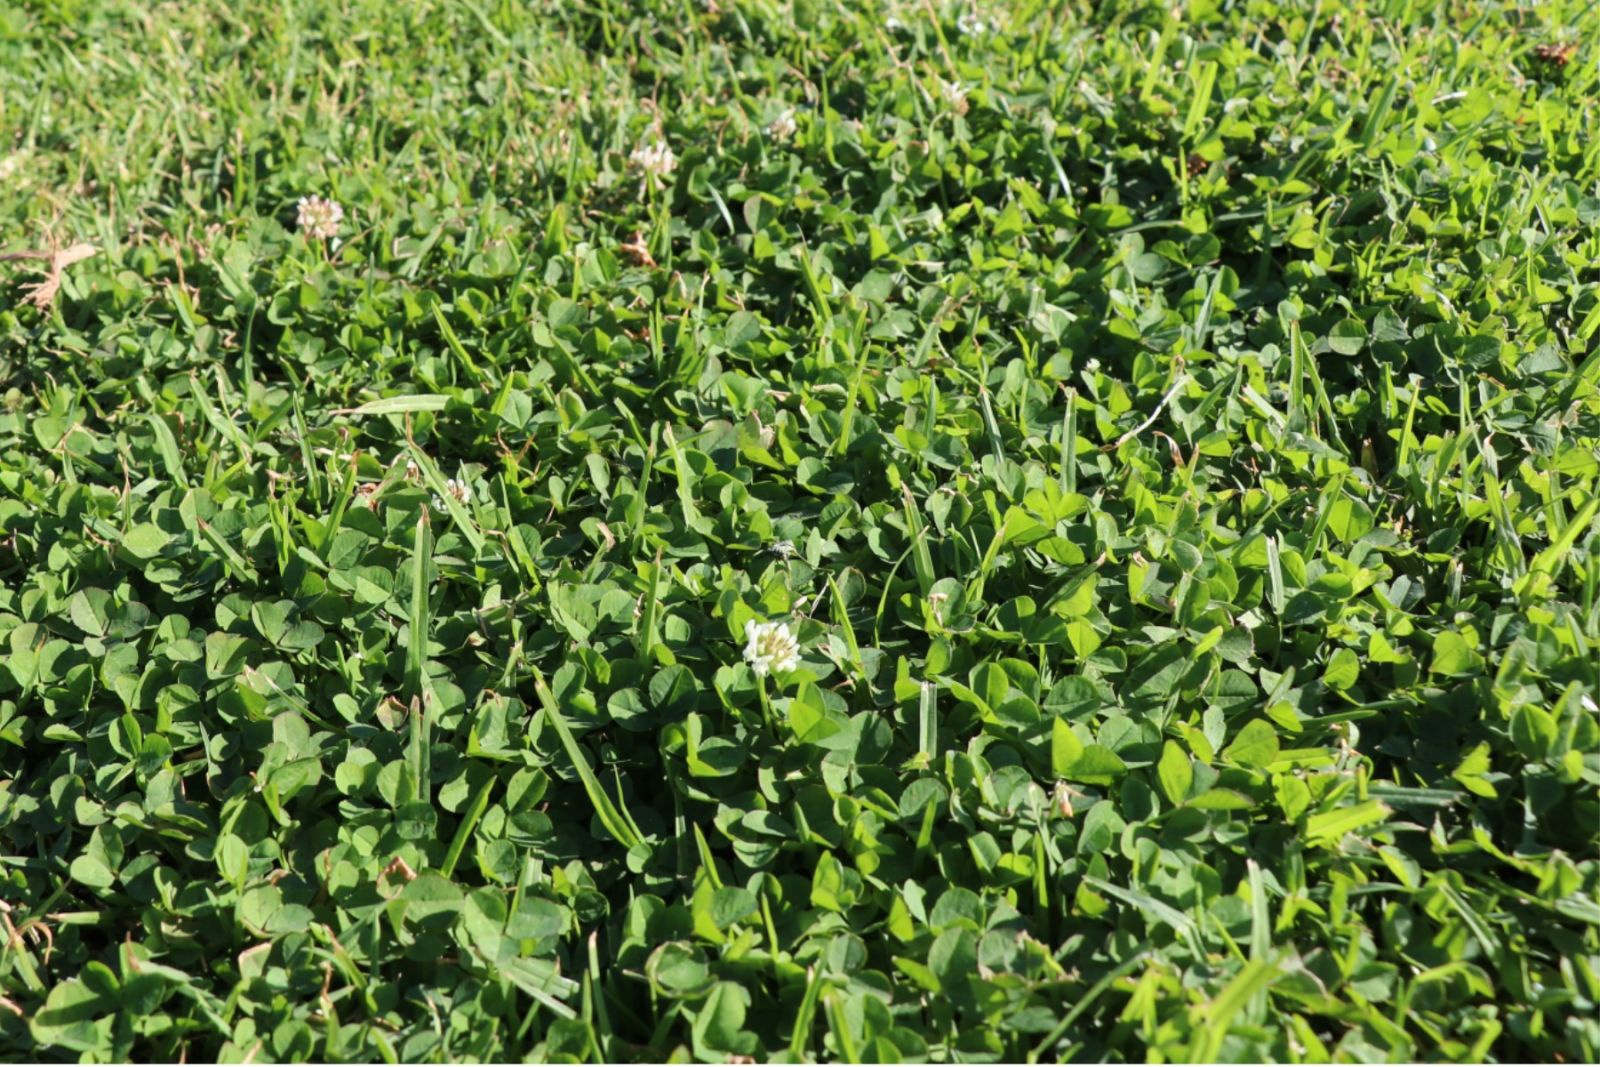clover: (10, 10, 1576, 1054)
